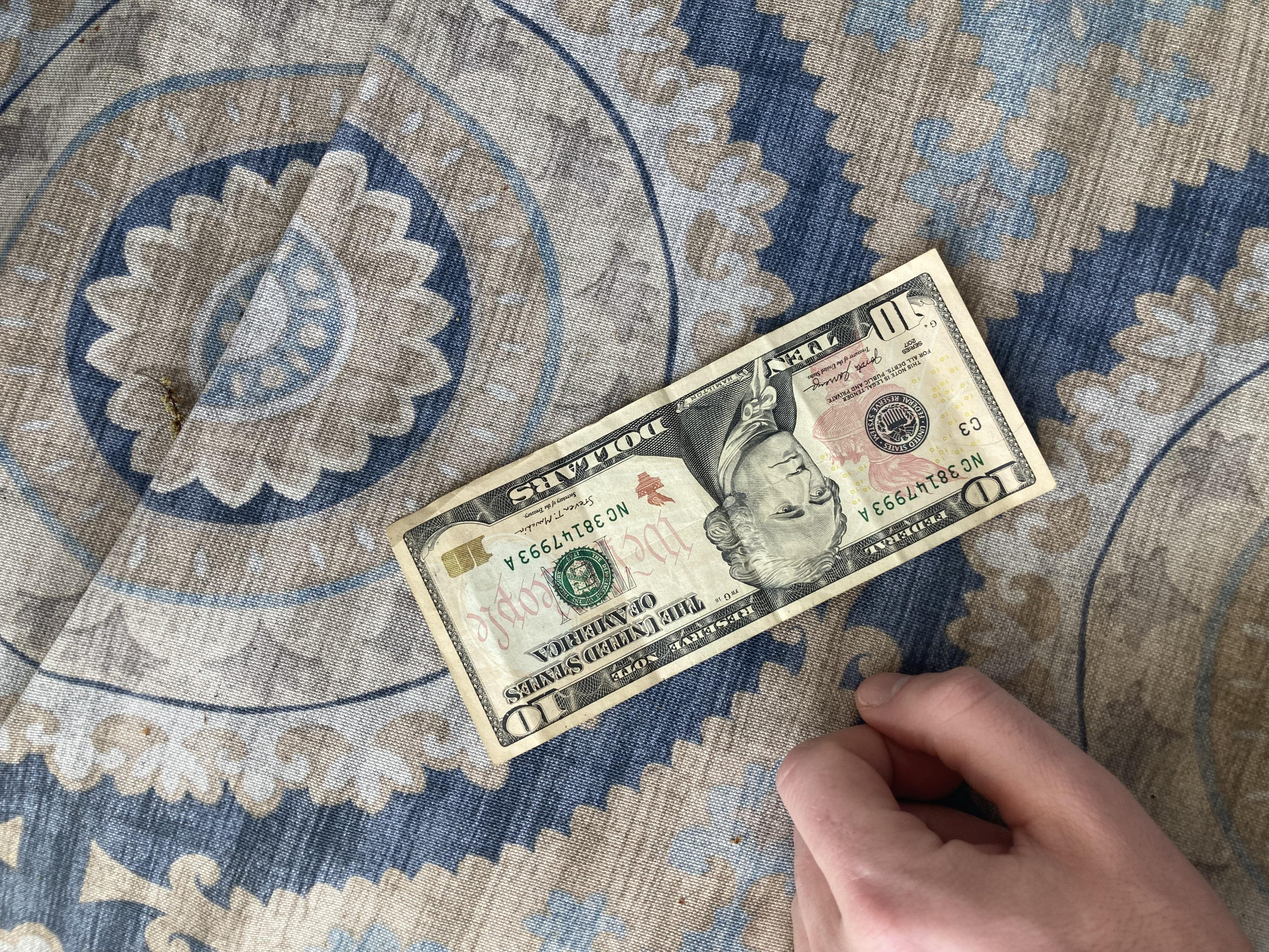ten-front: (246, 285, 934, 794)
